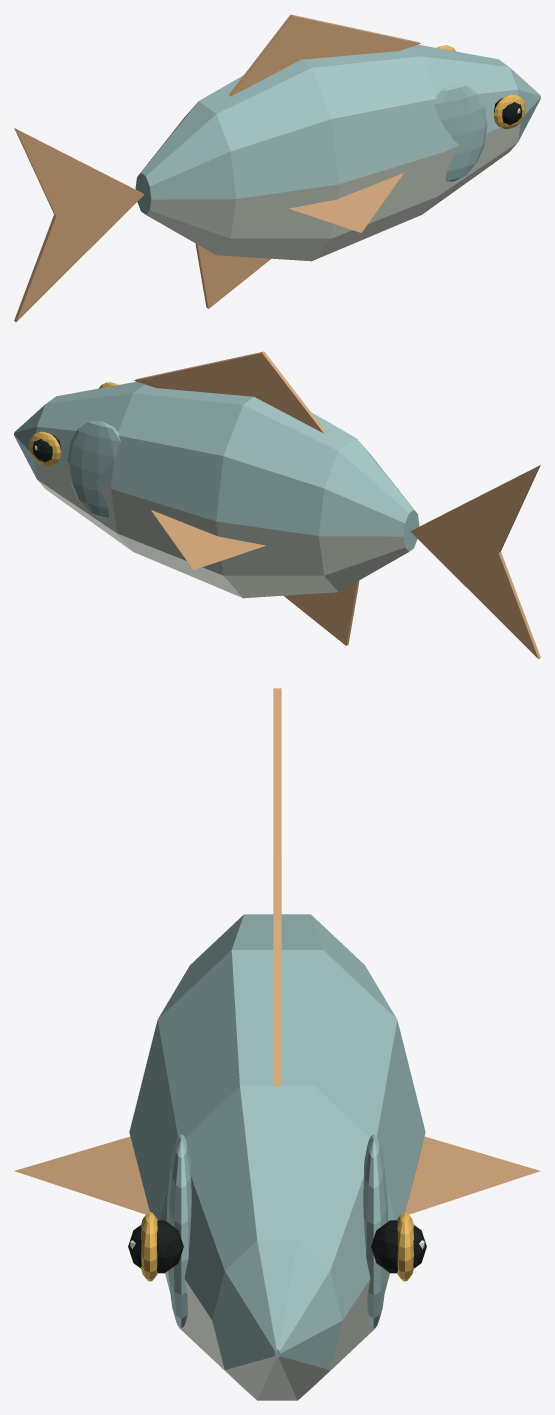
Rendered from carp.glb.
The picture shows the model from 3 angles, top to bottom: view 1: azimuth 30°, elevation 25°; view 2: azimuth 150°, elevation 25°; view 3: azimuth 270°, elevation 25°; orthographic projection. The views are drawn at different scales.
Parts seen in each view (by area): view 1: carp_Body, Dorsal, TailFinLower, TailFin, Gill_plate, Pectoral, Anal_fin, Iris_rim, Eye; view 2: carp_Body, Dorsal, TailFinLower, TailFin, Gill_plate.001, Pectoral.001, Anal_fin, Iris_rim.001, Eye.001; view 3: carp_Body, Pectoral, Pectoral.001, Gill_plate, Gill_plate.001, Dorsal, TailFin, Eye, Eye.001, Iris_rim, Iris_rim.001.
Part boxes in pixels (box(x1,y1,x2,y2)): carp_Body: box(135, 44, 540, 261); Dorsal: box(229, 14, 420, 96); TailFinLower: box(14, 195, 143, 322); TailFin: box(14, 128, 143, 215); Gill_plate: box(434, 84, 487, 181); Pectoral: box(289, 173, 403, 232); Anal_fin: box(195, 243, 271, 308); Iris_rim: box(494, 94, 525, 129); Eye: box(494, 98, 522, 124); carp_Body: box(14, 381, 419, 598); Dorsal: box(134, 351, 325, 433); TailFinLower: box(411, 532, 540, 659); TailFin: box(411, 465, 540, 552); Gill_plate.001: box(67, 421, 120, 518); Pectoral.001: box(151, 510, 265, 569); Anal_fin: box(283, 580, 359, 645); Iris_rim.001: box(29, 431, 60, 466); Eye.001: box(32, 435, 60, 461); carp_Body: box(129, 914, 425, 1400); Pectoral: box(14, 1136, 149, 1214); Pectoral.001: box(405, 1136, 540, 1214); Gill_plate: box(166, 1134, 191, 1327); Gill_plate.001: box(363, 1134, 388, 1327); Dorsal: box(273, 856, 281, 1085); TailFin: box(273, 688, 281, 856); Eye: box(128, 1220, 183, 1273); Eye.001: box(371, 1220, 426, 1273); Iris_rim: box(140, 1212, 157, 1281); Iris_rim.001: box(397, 1212, 414, 1281).
Bounding box in the file's own units: 2.16 × 1.07 × 0.996.
